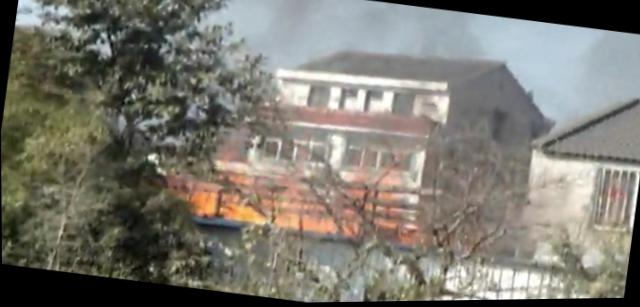fire: (218, 197, 268, 226), (190, 189, 219, 217)
